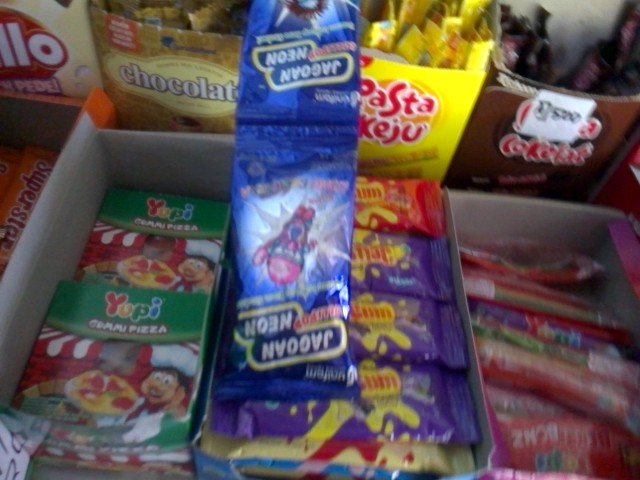jagoan neon: (213, 129, 360, 404), (234, 1, 362, 135)
